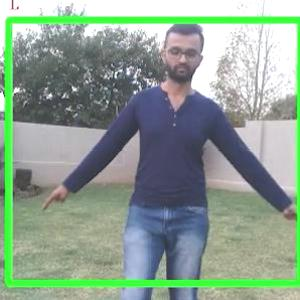land: (43, 34, 299, 299)
